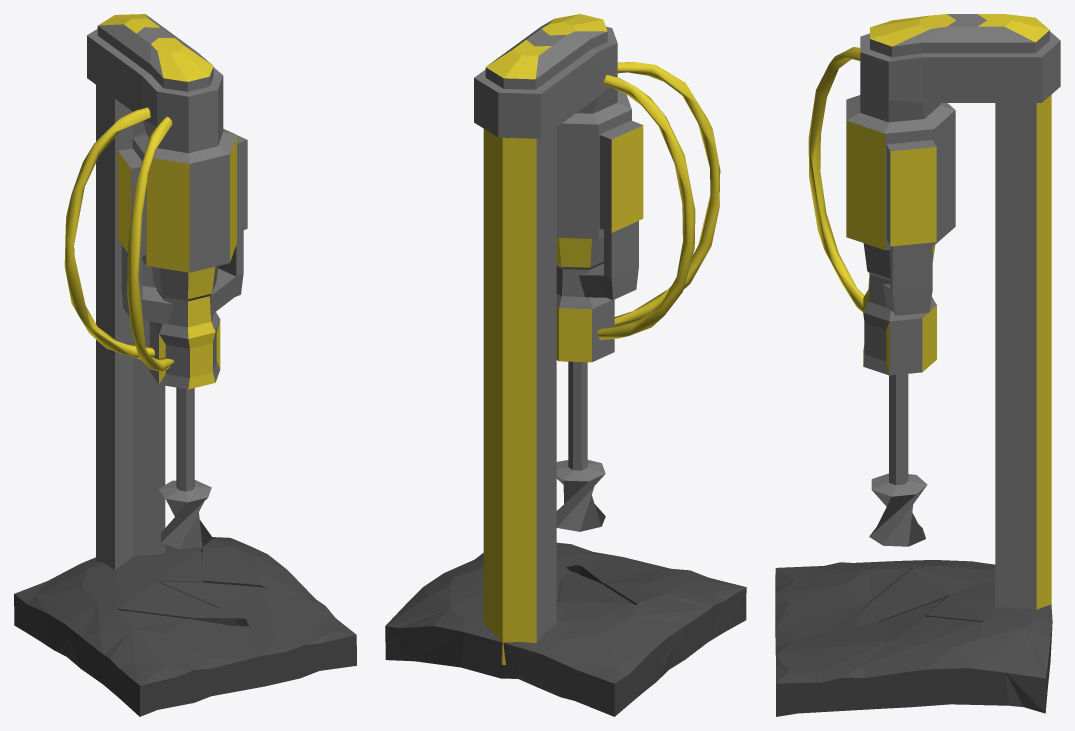
File: StoneGenLevel7.fbx
The picture shows the model from 3 angles, left to right: view 1: azimuth 30°, elevation 25°; view 2: azimuth 150°, elevation 25°; view 3: azimuth 270°, elevation 25°; orthographic projection. The views are drawn at different scales.
Visible parts, largest first — view 1: Cylinder, Cube.005, NurbsPath, NurbsPath.001; view 2: Cylinder, Cube.005, NurbsPath, NurbsPath.001; view 3: Cylinder, Cube.005, NurbsPath.001.
Part boxes in pixels (x1,y1,x2,y2): Cylinder: [87, 14, 247, 570]; Cube.005: [14, 537, 356, 716]; NurbsPath: [64, 107, 154, 359]; NurbsPath.001: [127, 116, 173, 371]; Cylinder: [474, 14, 643, 664]; Cube.005: [385, 542, 746, 716]; NurbsPath: [597, 75, 695, 339]; NurbsPath.001: [614, 62, 720, 327]; Cylinder: [846, 14, 1060, 609]; Cube.005: [775, 560, 1052, 716]; NurbsPath.001: [808, 47, 864, 312].
Size of the model in its own units: 1.45 by 3.57 by 1.45.
